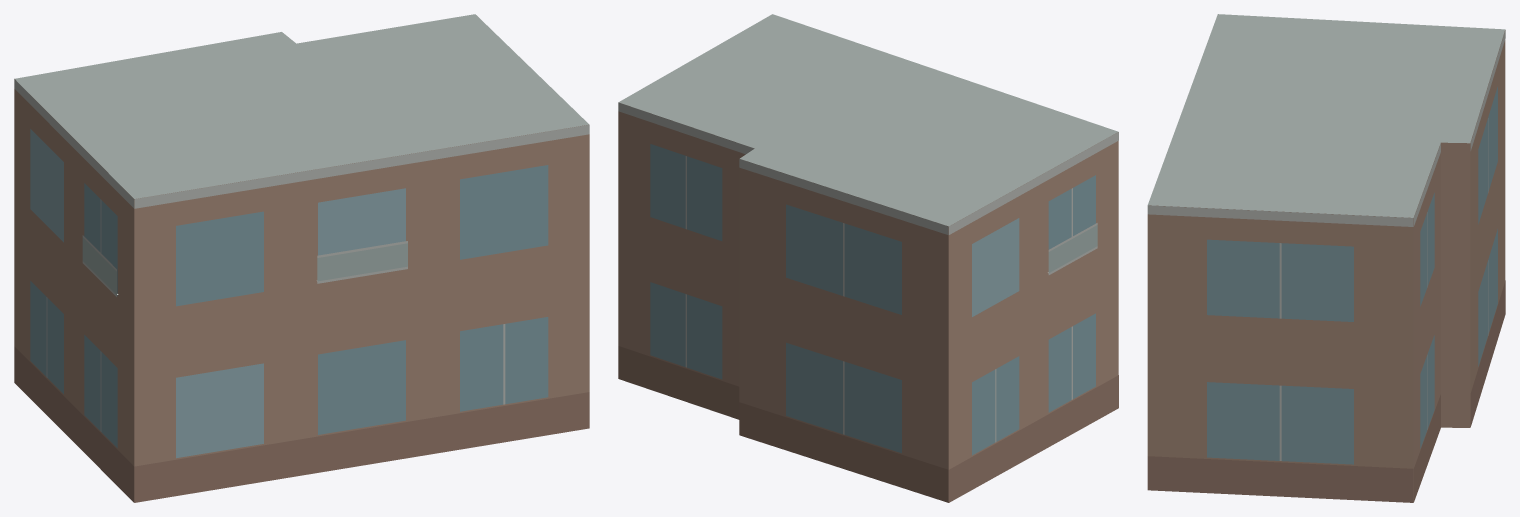
The model's file is survey-upis-32674449.glb.
3 renders of one model, left to right at view 1: azimuth 30°, elevation 25°; view 2: azimuth 150°, elevation 25°; view 3: azimuth 270°, elevation 25°, orthographic. The views are drawn at different scales.
Parts seen in each view (by area): view 1: survey-upis-32674449.tmp; view 2: survey-upis-32674449.tmp; view 3: survey-upis-32674449.tmp.
Part boxes in pixels (bbox=[...]): survey-upis-32674449.tmp: bbox=[14, 14, 589, 502]; survey-upis-32674449.tmp: bbox=[618, 14, 1118, 502]; survey-upis-32674449.tmp: bbox=[1147, 14, 1505, 502].
Size of the model in its own units: 11.67 by 7.6 by 8.66.
